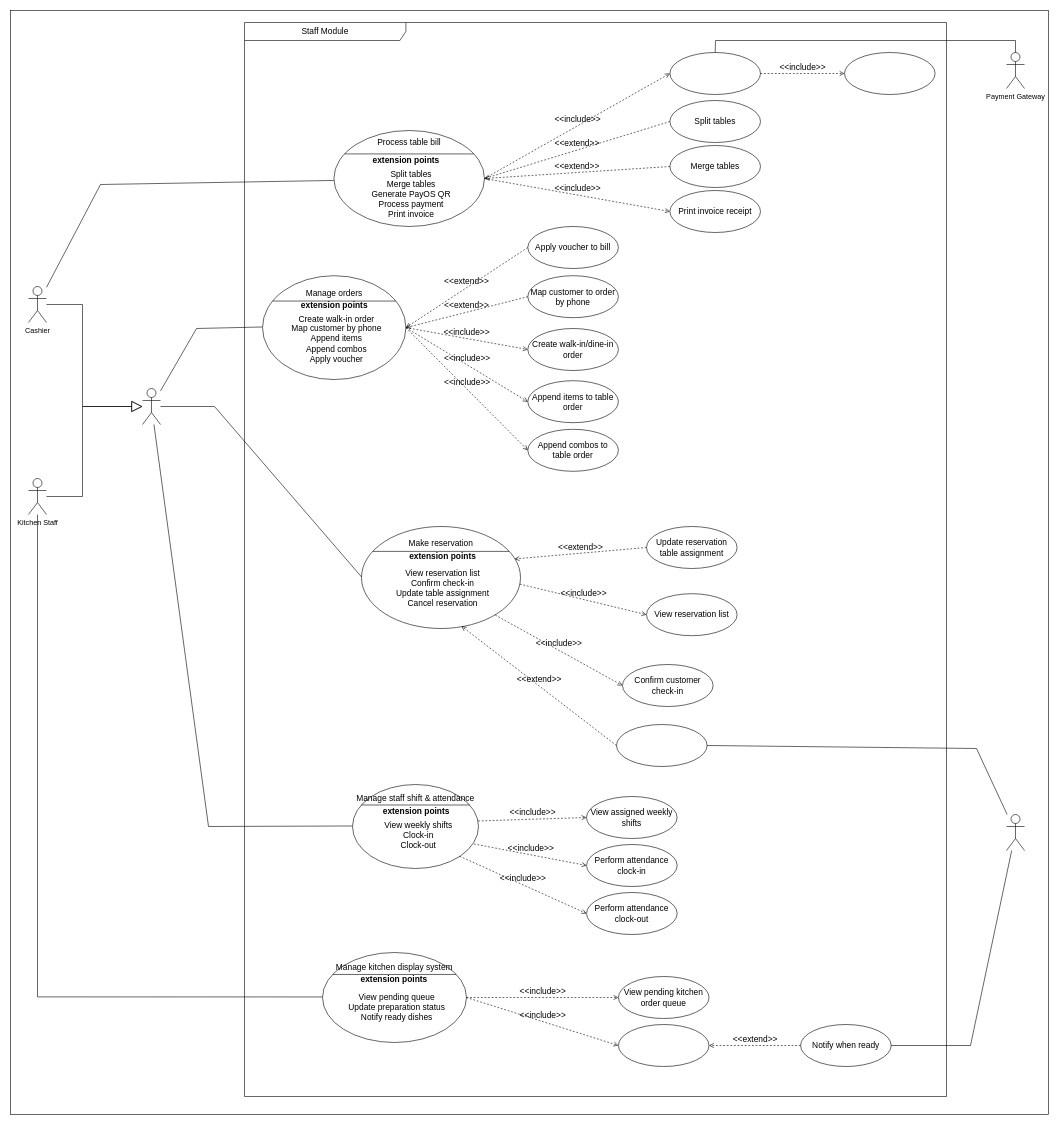
This 1059x1125 diagram has some shape labels left out. The centre of each missing label's shape, as x and y in pixels:
"Cancel reservation" goes at pixel 661 745.
"Generate PayOS QR" goes at pixel 889 73.
"Mailing system" goes at pixel 1015 832.
"Process table payment" goes at pixel 714 73.
"Staff" goes at pixel 151 406.
"Update preparation status" goes at pixel 663 1045.
